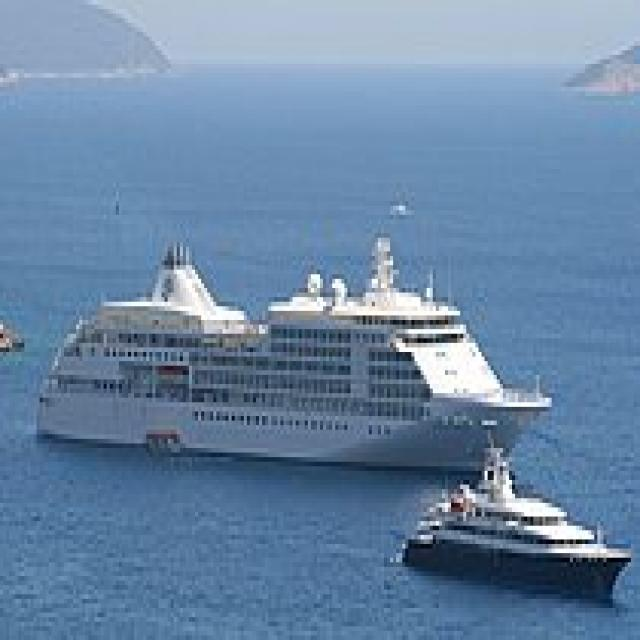Ship: (35, 212, 550, 472)
